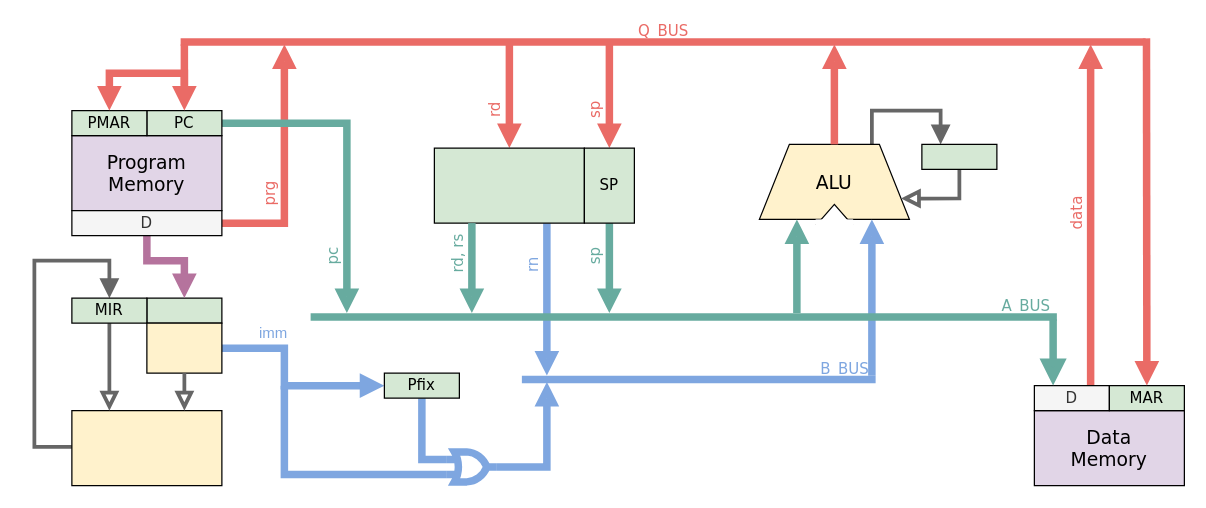
Some shapes in this 1206 by 508 pixel diagram are drawn without their labels. The centre of each missing label's shape, as x and y in pixels:
"IR" belongs at (184,310).
"Micro-instruction decoder" belongs at (146,447).
"Pre- decoder" belongs at (184,347).
"Registers R0..R7" belongs at (508,185).
"SR" belongs at (959,156).
